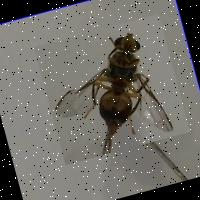Oriental-fruit-fly: (34, 14, 190, 165)
